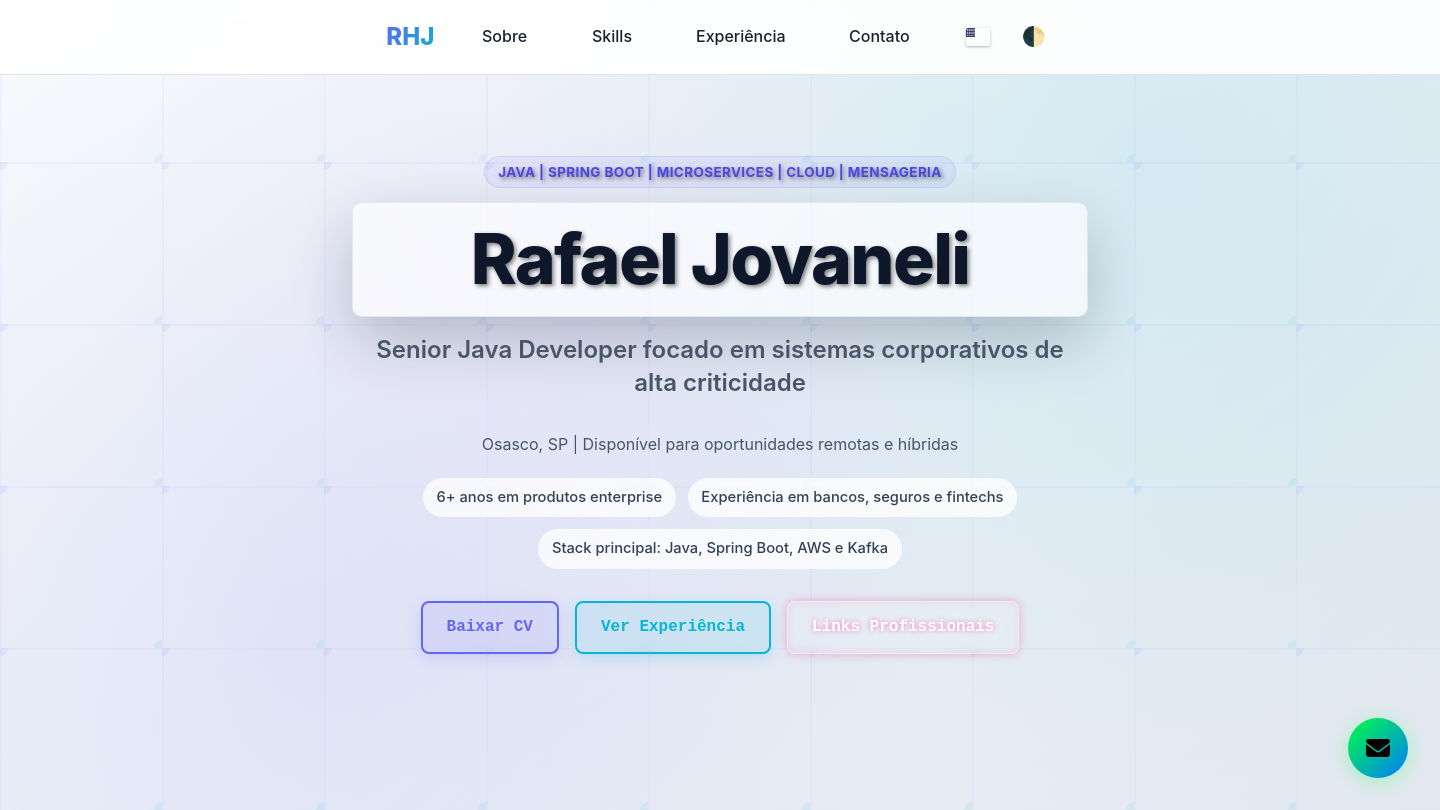
it: App › cycles theme mode
What coordinates should you click on to do the following:
click the button named "auto mode"
I would click on:
 (1034, 37)
Its box is [1014,19,1054,54].
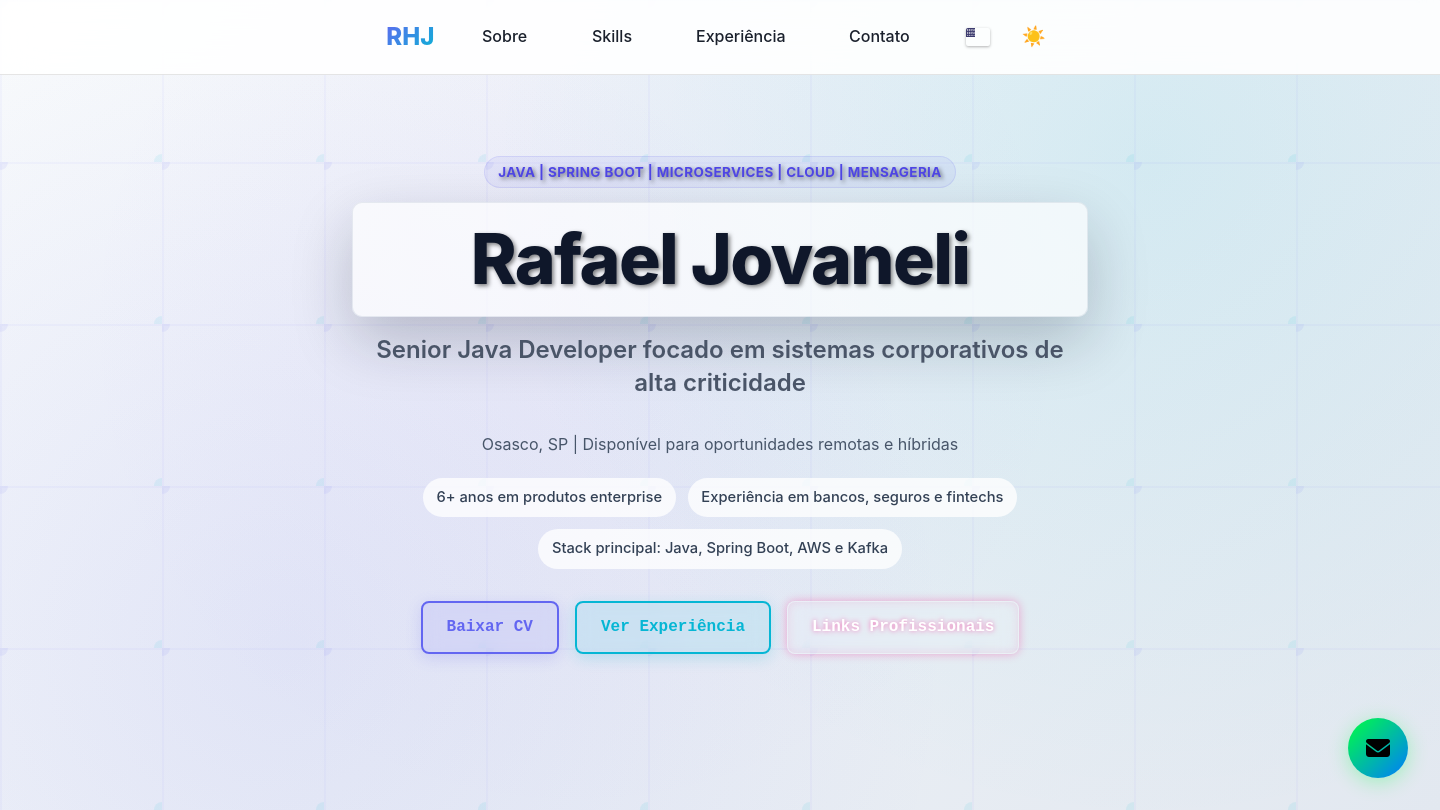
Check: the button named "light mode" is shown, box [1014,19,1054,54]
